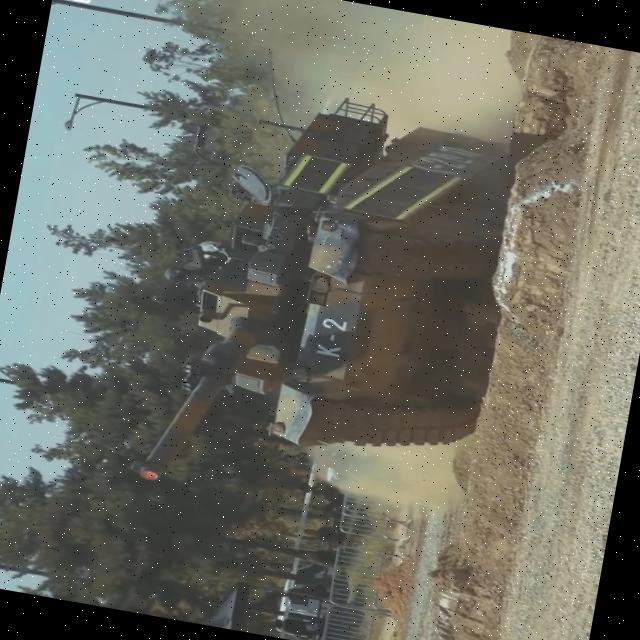korea tank: (123, 70, 534, 537)
